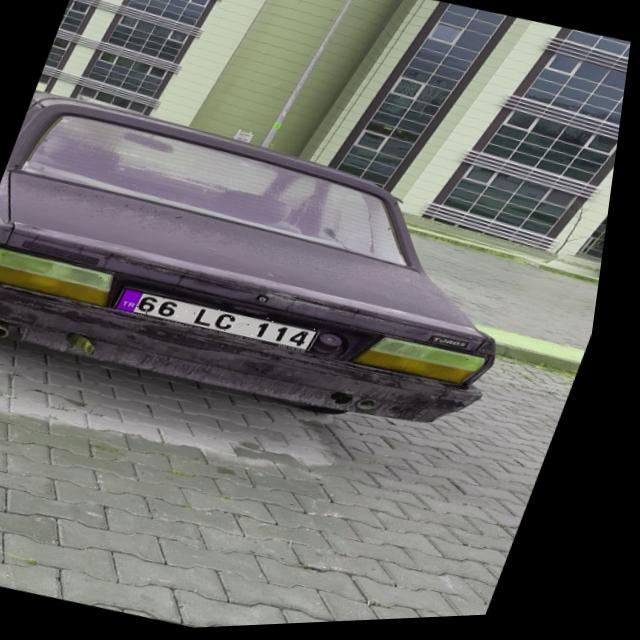license_plate: (117, 281, 333, 360)
